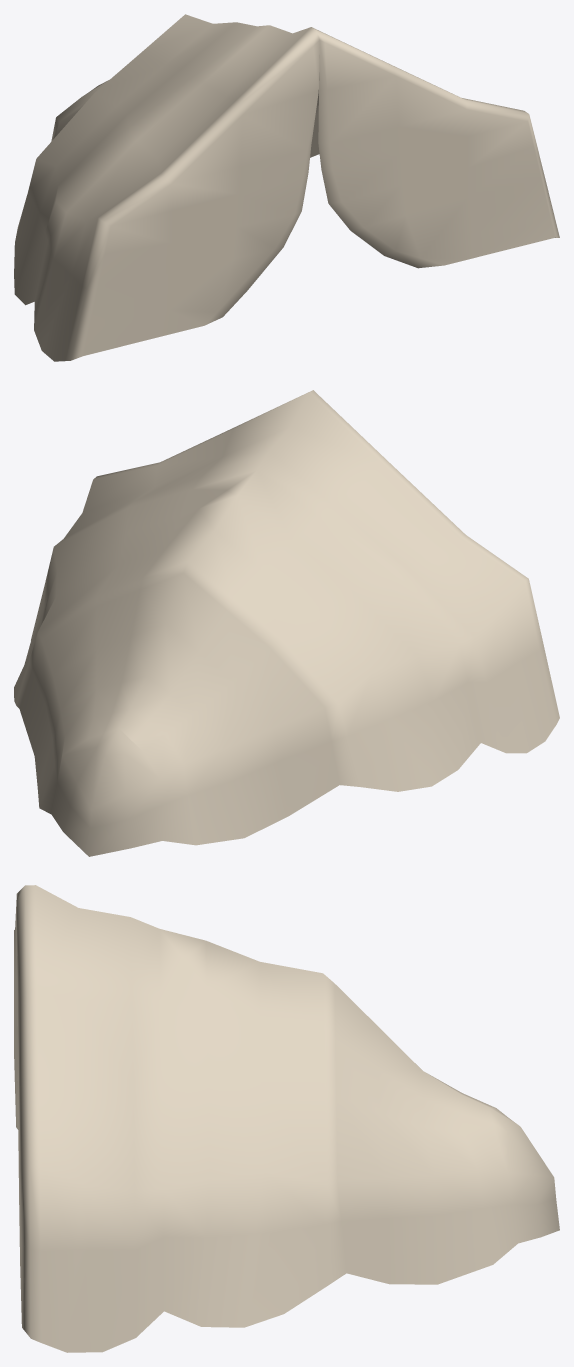
File: cloth-base.glb
The picture shows the model from 3 angles, top to bottom: view 1: azimuth 30°, elevation 25°; view 2: azimuth 150°, elevation 25°; view 3: azimuth 270°, elevation 25°; orthographic projection. The views are drawn at different scales.
Bounding box in the file's own units: 2.13 × 1.23 × 1.75.
